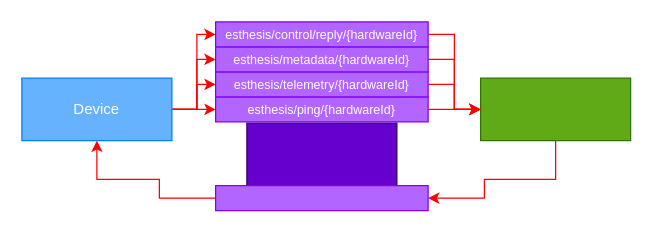
This 653x233 diagram has some shape labels left out. The centre of each missing label's shape, as x and y in pixels:
"esthesis/control/request/{hardwareId}" goes at pixel 321 197.
"MQTT server" goes at pixel 321 154.
"NiFi" goes at pixel 555 109.
